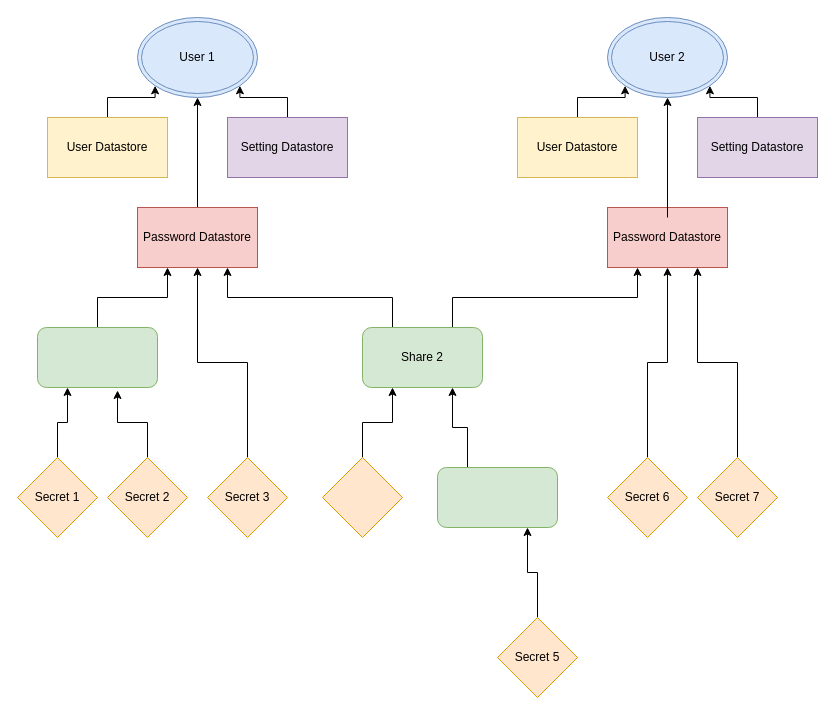
Some shapes in this 835 by 715 pixel diagram are drawn without their labels. The centre of each missing label's shape, as x and y in pixels:
"Secret 4" belongs at pixel 362 497.
"Share 1" belongs at pixel 97 357.
"Share 3" belongs at pixel 497 497.
